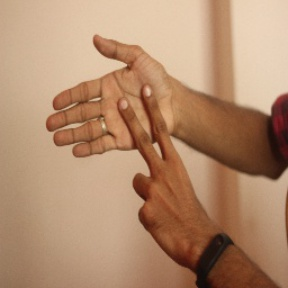N: (42, 32, 202, 210)
